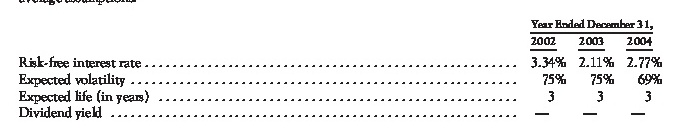table: (0, 0, 682, 135)
